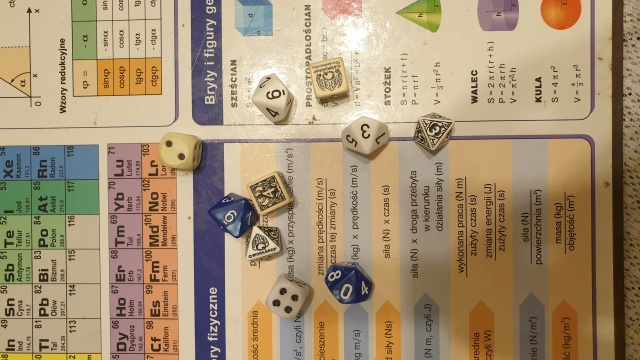d10-10: (321, 258, 376, 309)
d10-3: (334, 114, 396, 160)
d10-6: (249, 72, 299, 128), (209, 191, 250, 238)
d6-2: (158, 130, 202, 174)
d6-4: (263, 272, 312, 324)
d6p-4: (245, 172, 295, 217)
d6p-6: (307, 54, 355, 104)
d8p-3: (409, 109, 459, 155)
d8p-8: (239, 222, 287, 267)
